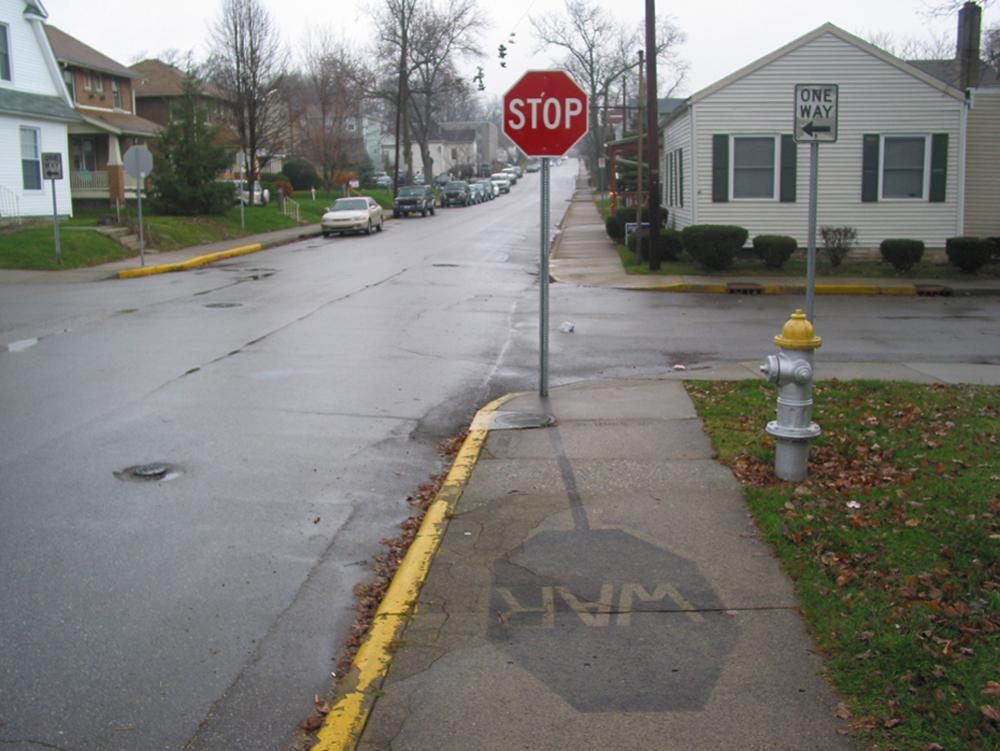Pole: (804, 144, 820, 311), (539, 158, 550, 398)
Sign: (502, 70, 589, 157)
